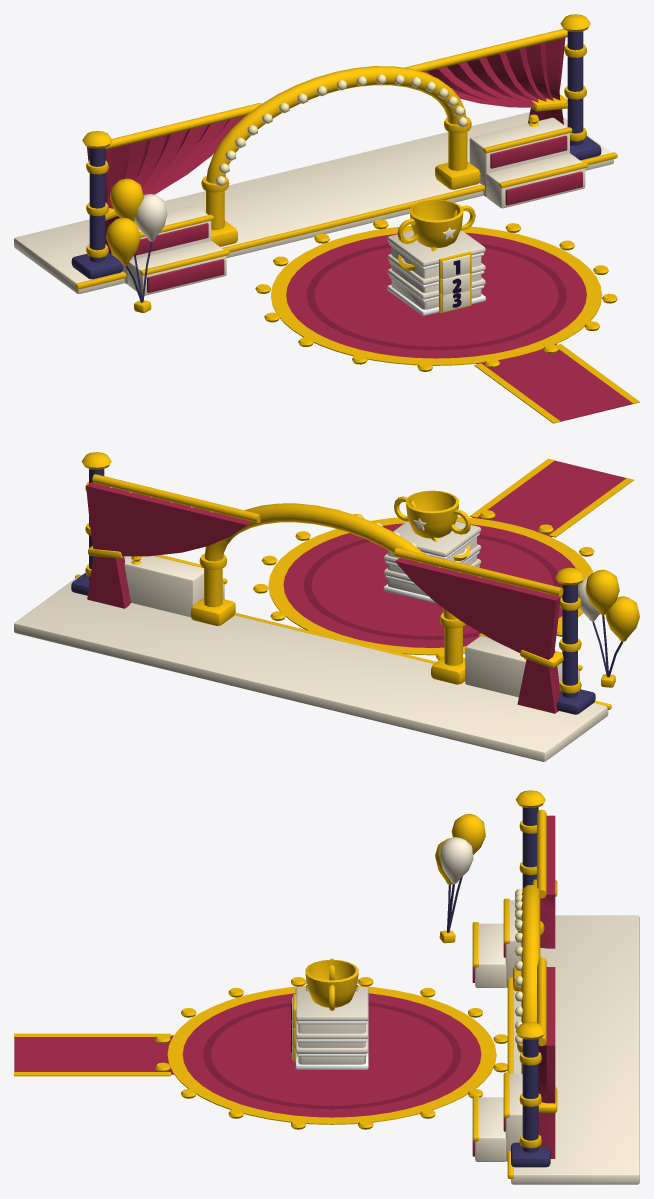
The model's file is finale.glb.
3 renders of one model, top to bottom at view 1: azimuth 30°, elevation 25°; view 2: azimuth 150°, elevation 25°; view 3: azimuth 270°, elevation 25°, orthographic.
Visible parts, largest first — view 1: dais, rug, curtain_r, arch, seats_r, curtain_l, runner, rug_edge, seats_l, balloons, tower_l, tower_r (+12 smaller); view 2: dais, rug, curtain_l, curtain_r, arch, runner, rug_edge, seats_r, balloons, tower_l, seats_l, part_trophy_cup (+6 smaller); view 3: dais, rug, runner, rug_edge, seats_r, curtain_r, tower_r, seats_l, step_1_body, balloons, rug_ring, arch (+7 smaller).
Part boxes in pixels (<box>): dais: <box>14,112,617,293</box>; rug: <box>286,232,586,358</box>; curtain_r: <box>405,29,567,126</box>; arch: <box>201,66,480,246</box>; seats_r: <box>469,117,587,208</box>; curtain_l: <box>87,103,261,253</box>; runner: <box>474,344,639,423</box>; rug_edge: <box>271,226,602,365</box>; seats_l: <box>111,205,229,295</box>; balloons: <box>106,178,167,313</box>; tower_l: <box>71,131,123,279</box>; tower_r: <box>560,14,601,160</box>; dais: <box>14,574,611,761</box>; rug: <box>283,523,575,647</box>; curtain_l: <box>394,548,563,713</box>; curtain_r: <box>86,474,260,608</box>; arch: <box>191,503,465,684</box>; runner: <box>470,458,633,537</box>; rug_edge: <box>268,516,593,655</box>; seats_r: <box>124,555,227,617</box>; balloons: <box>578,569,639,687</box>; tower_l: <box>555,567,595,714</box>; seats_l: <box>465,633,582,697</box>; part_trophy_cup: <box>394,490,470,538</box>; dais: <box>507,915,639,1184</box>; rug: <box>182,993,481,1117</box>; runner: <box>14,1033,174,1076</box>; rug_edge: <box>167,986,496,1124</box>; seats_r: <box>472,1072,522,1161</box>; curtain_r: <box>537,957,557,1158</box>; tower_r: <box>511,1022,550,1167</box>; seats_l: <box>472,898,521,987</box>; step_1_body: <box>295,987,368,1062</box>; balloons: <box>435,814,485,943</box>; rug_ring: <box>203,1002,461,1109</box>; arch: <box>513,885,547,1073</box>.
Size of the model in its own units: 15.6 by 4.69 by 15.76.
